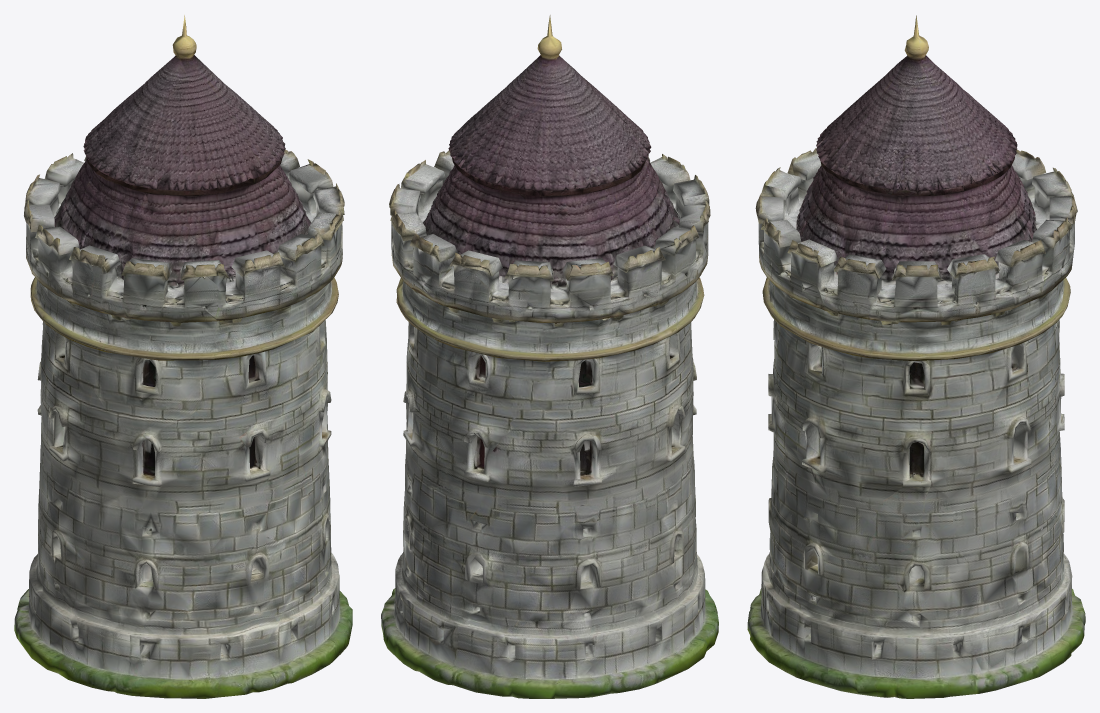
File: tower.glb
3 views of the same model, side by side, from view 1: azimuth 30°, elevation 25°; view 2: azimuth 150°, elevation 25°; view 3: azimuth 270°, elevation 25° (orthographic).
Visible parts, largest first — view 1: mesh_node; view 2: mesh_node; view 3: mesh_node.
Part boxes in pixels (x1,y1,x2,y2): mesh_node: (14,15,352,698); mesh_node: (381,15,718,698); mesh_node: (747,15,1085,698).
Bounding box in the file's own units: 4.99 × 10 × 4.99.
Materials: 1 (1 with a texture image).
